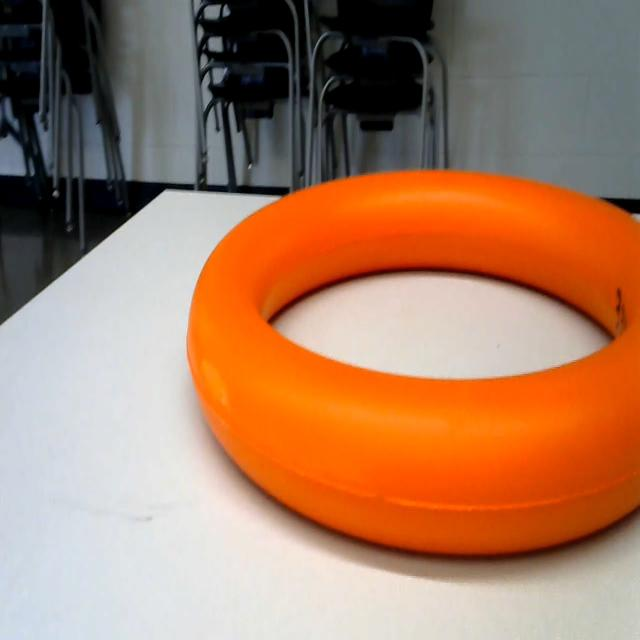note: (180, 148, 640, 632)
